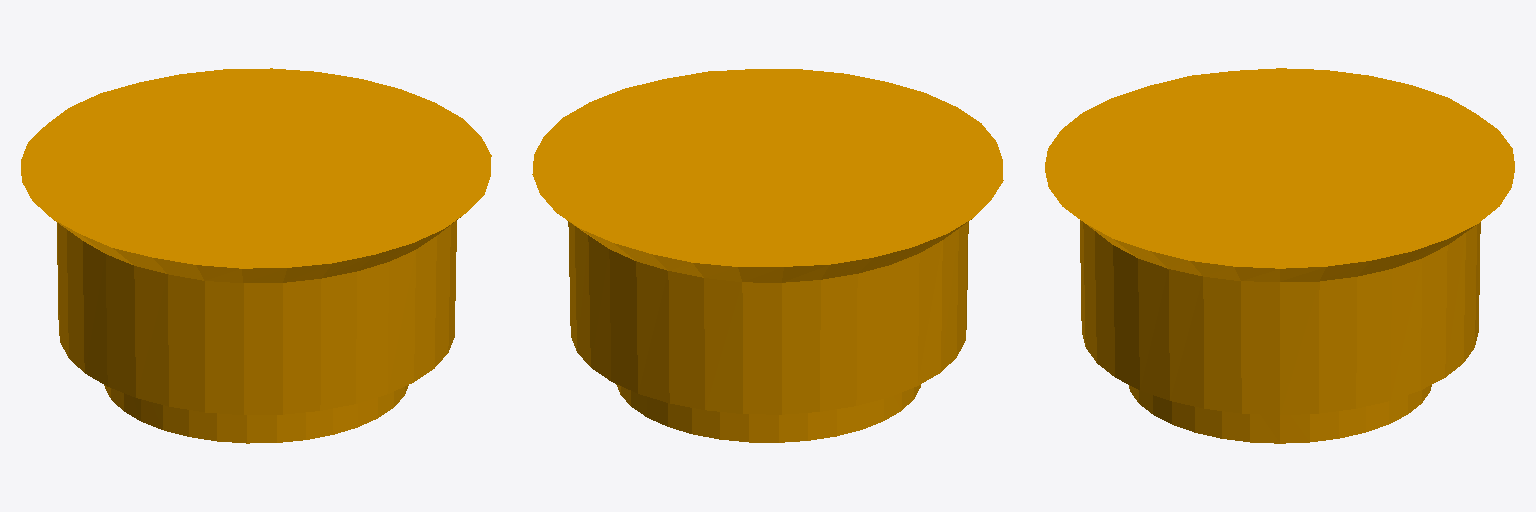
URDF robot description (shunk-6-dof-guide-arm):
<?xml version="1.0" ?>
<robot name="shunk-6-dof-guide-arm">
  <link name="Base">
    <inertial>
      <mass value="8.01062e-1"/>
      <origin xyz="-1.67003e-1 3.43750e-6 2.32286e-1"/>
      <inertia ixx="5.43953e-4" ixy="-2.21300e-7" ixz="-2.60353e-8" iyy="5.44424e-4" iyz="-6.50883e-8" izz="7.61884e-4"/>
    </inertial>
    <visual>
      <origin rpy="0 0 0" xyz="0 0 0"/>
      <geometry>
        <mesh filename="meshes/Schunk/Base.STL"/>
      </geometry>
    </visual>
    <collision>
      <origin rpy="0 0 0" xyz="-0.075 0 -0.045"/>
      <geometry>
        <capsule radius="0.110" length="0.21"/>
      </geometry>
    </collision>
    <collision>
      <origin rpy="0 0 0" xyz="-0.075 0 0.105"/>
      <geometry>
        <capsule radius="0.075" length="0.09"/>
      </geometry>
    </collision>
    <collision>
      <origin rpy="0 0 0" xyz="-0.62 -0.37 -0.35"/>
      <geometry>
        <box size="1 1 1"/>
      </geometry>
    </collision>
  </link>
  <joint name="Joint_0" type="continuous">
    <origin rpy="0 0 1.5708" xyz="-0.167 0 0.304"/>
    <parent link="Base"/>
    <child link="Link_0"/>
    <axis xyz="0 0 1"/>
    <limit effort="0" lower="0" upper="0" velocity="0"/>
  </joint>
  <link name="Link_0">
    <inertial>
      <mass value="5.29678"/>
      <origin xyz="7.86719e-3, 1.62500e-6, -7.90200e-3"/>
      <inertia ixx="1.26812e-2" ixy="-4.37393e-7" ixz="-3.38423e-4" iyy="1.55385e-2" iyz="-3.80116e-7" izz="1.26371e-2"/>
    </inertial>
    <visual>
      <origin rpy="0 0 0" xyz="0 0 0"/>
      <geometry>
        <mesh filename="meshes/Schunk/Link_0.STL"/>
      </geometry>
    </visual>
    <collision>
      <origin rpy="0 0 0" xyz="0 0 0"/>
      <geometry>
        <mesh filename="meshes/Schunk/Link_0_collision.STL"/>
      </geometry>
    </collision>
  </link>
  <joint name="Joint_1" type="continuous">
    <origin rpy="0 -1.5708 3.14159" xyz="0 0 0"/>
    <parent link="Link_0"/>
    <child link="Link_1"/>
    <axis xyz="0 0 1"/>
    <limit effort="0" lower="0" upper="0" velocity="0"/>
  </joint>
  <link name="Link_1">
    <inertial>
      <mass value="6.52440"/>
      <origin xyz="1.74996e-1 -6.25000e-8  1.09032e-1"/>
      <inertia ixx="7.23697e-3" ixy="5.20706e-9" ixz="-2.60353e-9" iyy="1.17643e-1" iyz="0.00000" izz="1.18174e-1"/>
    </inertial>
    <visual>
      <origin rpy="0 0 0" xyz="0 0 0"/>
      <geometry>
        <mesh filename="meshes/Schunk/Link_1.STL"/>
      </geometry>
    </visual>
    <collision>
      <origin rpy="0 0 0" xyz="0 0 0"/>
      <geometry>
        <mesh filename="meshes/Schunk/Link_1_collision.STL"/>
      </geometry>
    </collision>
  </link>
  <joint name="Joint_2" type="continuous">
    <origin rpy="3.14159 0 0" xyz="0.350 0 0"/>
    <parent link="Link_1"/>
    <child link="Link_2"/>
    <axis xyz="0 0 1"/>
    <limit effort="0" lower="0" upper="0" velocity="0"/>
  </joint>
  <link name="Link_2">
    <inertial>
      <mass value="5.29678"/>
      <origin xyz="7.86638e-3 6.87500e-7 -7.90200e-3"/>
      <inertia ixx="1.26812e-2" ixy="-4.37393e-7" ixz="-3.38423e-4" iyy="1.55385e-2" iyz="-3.80116e-7" izz="1.26371e-2"/>
    </inertial>
    <visual>
      <origin rpy="0 0 0" xyz="0 0 0"/>
      <geometry>
        <mesh filename="meshes/Schunk/Link_2.STL"/>
      </geometry>
    </visual>
    <collision>
      <origin rpy="0 0 0" xyz="0 0 0"/>
      <geometry>
        <mesh filename="meshes/Schunk/Link_2_collision.STL"/>
      </geometry>
    </collision>
  </link>
  <joint name="Joint_3" type="continuous">
    <origin rpy="0 1.5708 0" xyz="0 0 0"/>
    <parent link="Link_2"/>
    <child link="Link_3"/>
    <axis xyz="0 0 1"/>
    <limit effort="0" lower="0" upper="0" velocity="0"/>
  </joint>
  <link name="Link_3">
    <inertial>
      <mass value="3.06309"/>
      <origin xyz="3.94769e-2 0.00000 1.67707e-1"/>
      <inertia ixx="2.28956e-2" ixy="0.00000" ixz="-7.43135e-3" iyy="2.59133e-2" iyz="0.00000" izz="5.78435e-3"/>
    </inertial>
    <visual>
      <origin rpy="0 0 0" xyz="0 0 0"/>
      <geometry>
        <mesh filename="meshes/Schunk/Link_3.STL"/>
      </geometry>
    </visual>
    <collision>
      <origin rpy="0 0 0" xyz="0 0 0"/>
      <geometry>
        <mesh filename="meshes/Schunk/Link_3_a_collision.STL"/>
      </geometry>
    </collision>
    <collision>
      <origin rpy="0 0 0" xyz="0 0 0"/>
      <geometry>
        <mesh filename="meshes/Schunk/Link_3_b_collision.STL"/>
      </geometry>
    </collision>
    <collision>
      <origin rpy="0 0 0" xyz="0.09 0 0.30172"/>
      <geometry>
        <sphere radius="0.045"/>
      </geometry>
    </collision>
  </link>
  <joint name="Joint_4" type="continuous">
    <origin rpy="0 -1.5708 0" xyz="0 0 0.305"/>
    <parent link="Link_3"/>
    <child link="Link_4"/>
    <axis xyz="0 0 1"/>
    <limit effort="0" lower="0" upper="0" velocity="0"/>
  </joint>
  <link name="Link_4">
    <inertial>
      <mass value="2.60643"/>
      <origin xyz="7.39962e-3 -1.37500e-6 -4.78887e-3"/>
      <inertia ixx="3.71973e-3" ixy="-3.12424e-8" ixz="-9.33184e-5" iyy="4.83394e-3" iyz=" 1.04141e-8" izz="4.13746e-3"/>
    </inertial>
    <visual>
      <origin rpy="0 0 0" xyz="0 0 0"/>
      <geometry>
        <mesh filename="meshes/Schunk/Link_4.STL"/>
      </geometry>
    </visual>
    <collision>
      <origin rpy="0 0 0" xyz="0 0 0"/>
      <geometry>
        <mesh filename="meshes/Schunk/Link_4_collision.STL"/>
      </geometry>
    </collision>
  </link>
  <joint name="Joint_5" type="continuous">
    <origin rpy="0 1.5708 0" xyz="0 0 0"/>
    <parent link="Link_4"/>
    <child link="End_Effector"/>
    <axis xyz="0 0 1"/>
    <limit effort="0" lower="0" upper="0" velocity="0"/>
  </joint>
  <link name="End_Effector">
    <inertial>
      <mass value="4.46596e-1"/>
      <origin xyz="2.00644e-3 3.35236e-2 1.22747e-1"/>
      <inertia ixx="1.88826e-3" ixy="-6.54528e-6" ixz="-1.62591e-5" iyy="6.68420e-4" iyz="-7.71822e-4" izz="1.40835e-3"/>
    </inertial>
    <visual>
      <origin rpy="0 0 0" xyz="0 0 0"/>
      <geometry>
        <mesh filename="meshes/Schunk/End_Effector_Straight.STL"/>
      </geometry>
    </visual>
    <collision>
      <origin rpy="0 0 0" xyz="0 0 0"/>
      <geometry>
        <mesh filename="meshes/Schunk/End_Effector_Straight_collision.STL"/>
      </geometry>
    </collision>
  </link>
  <joint name="Sensor_Flange" type="fixed">
    <origin rpy="0 0 1.5708" xyz="0 0 0.108675"/>
    <parent link="End_Effector"/>
    <child link="Weight"/>
    <axis xyz="0 0 0"/>
  </joint>
  <!--
    This link corresponds to the haptic proxy, which was previously the only physically simulated part of the arm.
    <origin> corresponds to the older v_sf_haptic, except it now also includes an orientation component with the X-axis along the handpiece handle.
  -->
  <link name="Weight">
    <inertial>
      <mass value="10.0"/>
      <origin xyz="1.17591e-1 -2.08302e-3 7.64603e-2" rpy="0 -0.38663 -0.03176"/>
      <inertia ixx="4.16667e-2" ixy="0.00000" ixz="0.00000" iyy="1.66667e-1" iyz="0.00000" izz="1.66667e-1"/>
    </inertial>
  </link>
</robot>

--- Render facts (derived) ---
The picture shows the robot from 3 angles, left to right: view 1: azimuth 30°, elevation 25°; view 2: azimuth 150°, elevation 25°; view 3: azimuth 270°, elevation 25°; orthographic projection.
Robot: shunk-6-dof-guide-arm — 8 links, 7 joints (6 continuous, 1 fixed); root link Base; default pose: every joint at zero.
Visible links, largest first — view 1: Base; view 2: Base; view 3: Base.
Boxes of the visible links, box(x1,y1,x2,y2) form: Base: box(21, 68, 491, 443); Base: box(532, 69, 1003, 442); Base: box(1045, 68, 1514, 443).
Size in the robot's own frame: 0.1048 by 0.104 by 0.0513 metres.
1 mesh visuals loaded from 7 distinct referenced files (1 binary STL); not drawn: 6 (reference not matched to a file when rendering).